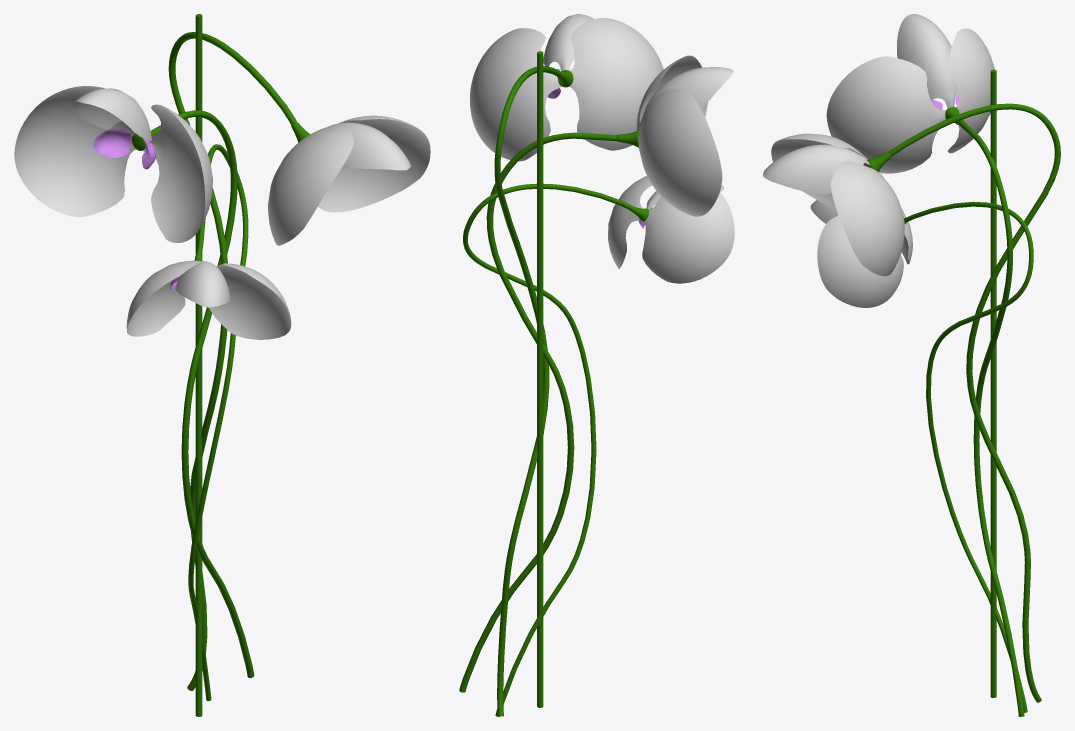
File: ochids 1.fbx
3 views of the same model, side by side, from view 1: azimuth 30°, elevation 25°; view 2: azimuth 150°, elevation 25°; view 3: azimuth 270°, elevation 25° (orthographic). The views are drawn at different scales.
Visible parts, largest first — view 1: orchids, orchidStem, stick, orchidsInner; view 2: orchids, orchidStem, stick; view 3: orchids, orchidStem, stick.
Part boxes in pixels (<box>): orchids: <box>14,86,430,339</box>; orchidStem: <box>132,32,310,700</box>; stick: <box>195,14,202,716</box>; orchidsInner: <box>93,129,180,289</box>; orchids: <box>470,14,734,283</box>; orchidStem: <box>459,66,648,716</box>; stick: <box>537,51,543,707</box>; orchids: <box>763,14,994,307</box>; orchidStem: <box>867,103,1060,716</box>; stick: <box>990,69,996,697</box>.
Size of the model in its own units: 202 by 399 by 171.
